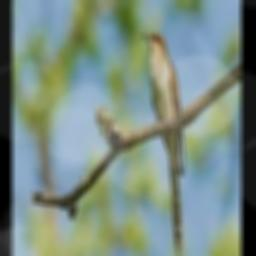Cuckoo: (139, 32, 185, 254)
